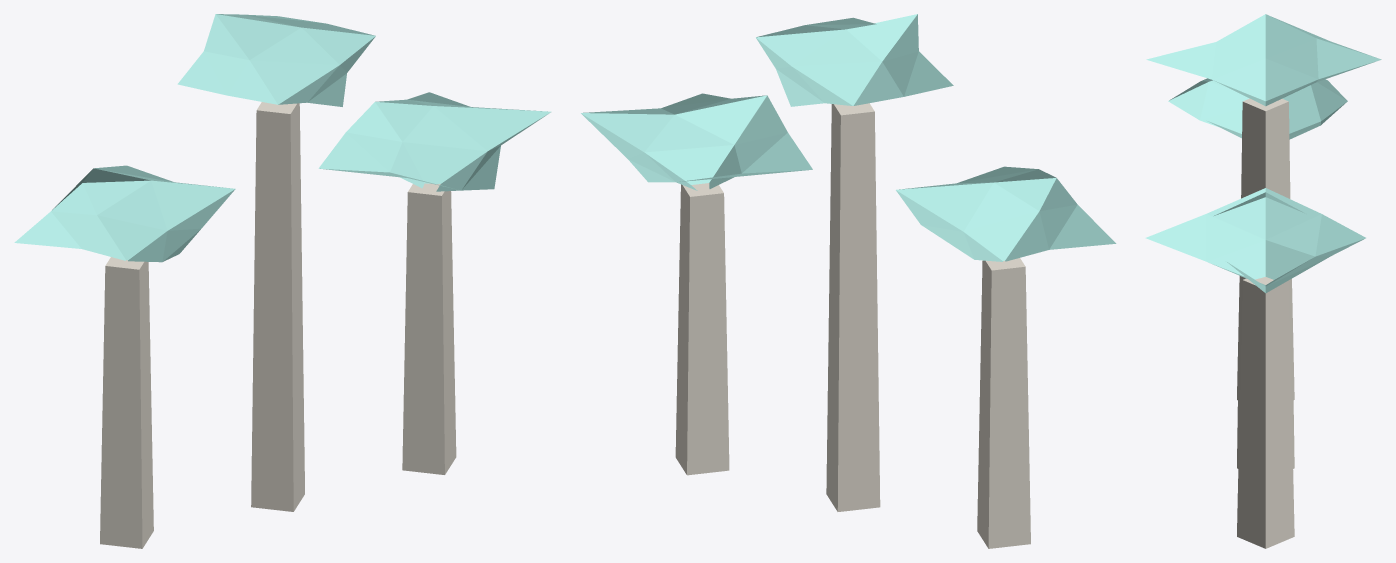
The model's file is glowcap_v16.glb.
The picture shows the model from 3 angles, left to right: view 1: azimuth 30°, elevation 25°; view 2: azimuth 150°, elevation 25°; view 3: azimuth 270°, elevation 25°; orthographic projection. The views are drawn at different scales.
Parts seen in each view (by area): view 1: lod0; view 2: lod0; view 3: lod0.
Boxes of the visible parts, left/top/right/bottom form: lod0: left=14, top=14, right=551, bottom=548; lod0: left=581, top=14, right=1116, bottom=548; lod0: left=1145, top=14, right=1381, bottom=548.
Size of what is drawn, in the model's own units: 0.4978 by 0.4286 by 0.2047.
